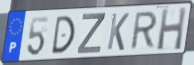5: (26, 15, 50, 57)
D: (50, 14, 77, 56)
H: (156, 6, 188, 52)
K: (106, 12, 131, 52)
R: (128, 10, 159, 52)
Z: (76, 12, 107, 56)
